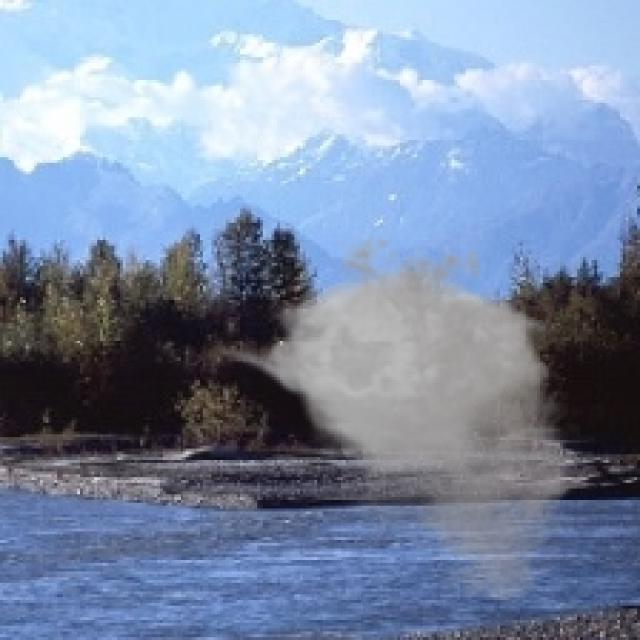smoke: (214, 223, 589, 608)
